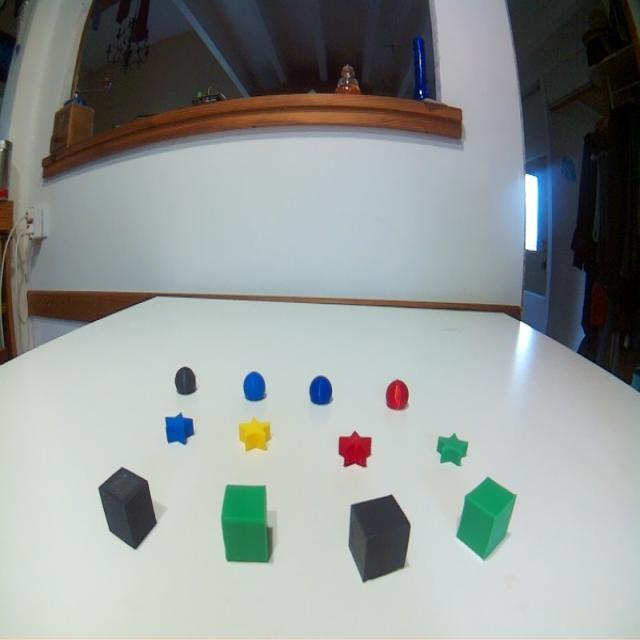ball: (381, 376, 410, 416), (306, 372, 335, 408), (241, 369, 269, 406), (173, 362, 199, 400)
cube: (345, 486, 413, 590), (448, 474, 518, 564), (98, 462, 158, 554), (216, 483, 272, 565)
star: (332, 427, 377, 471), (233, 413, 275, 456), (433, 428, 474, 472), (162, 410, 198, 448)
